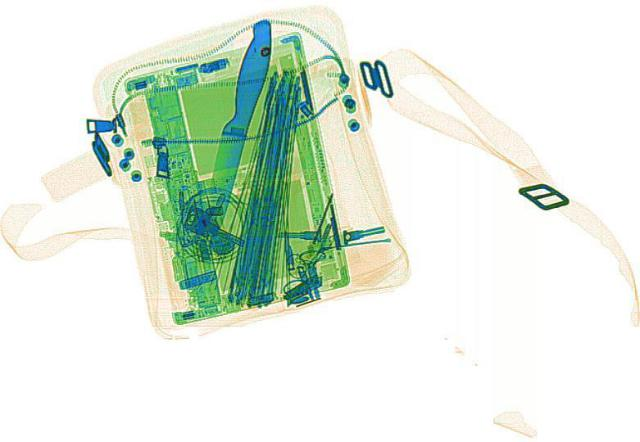Knife: (194, 17, 280, 228)
